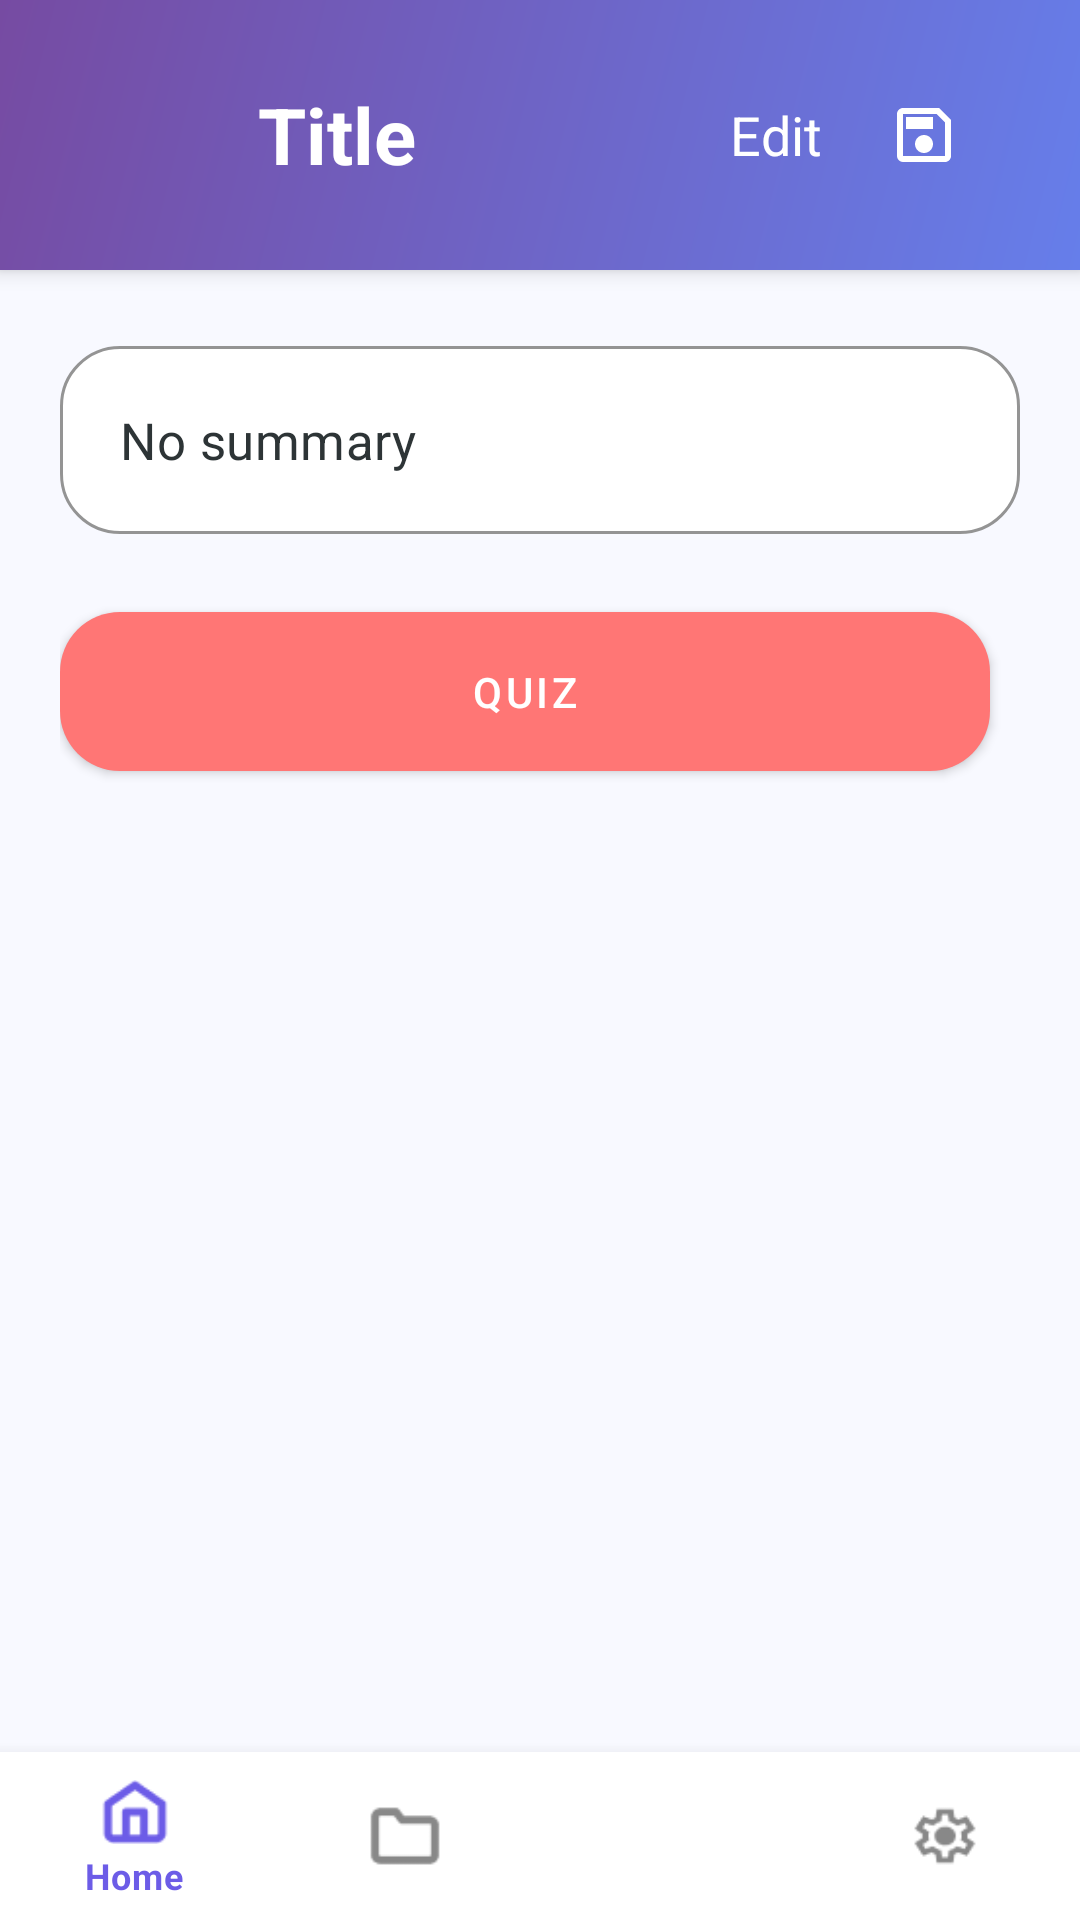

Named icons in this screenshot (1080 x 1920) and their centers, (x=x, y=y):
save: (x=924, y=135)
